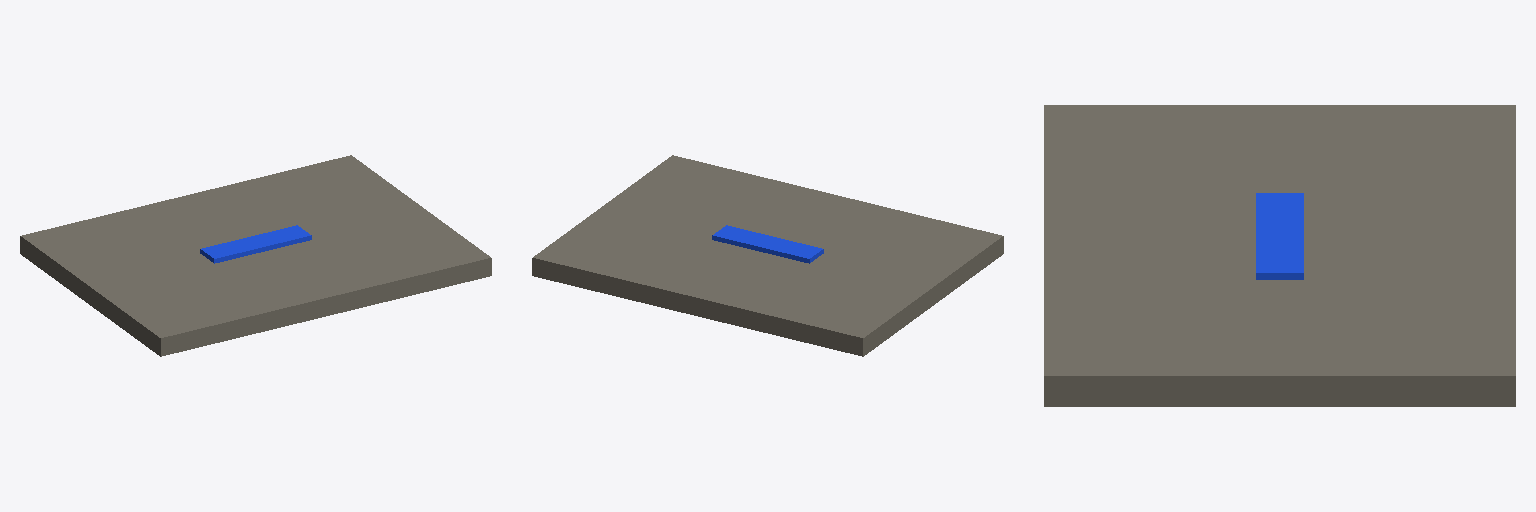
robot.urdf — parttoolgen_tabletop_proxy_v0:
<?xml version="1.0"?>
<robot name="parttoolgen_tabletop_proxy_v0">
  <link name="tabletop_proxy">
    <visual>
      <material name="wood">
        <color rgba="0.52 0.50 0.46 1.0"/>
      </material>
      <origin xyz="0 0 0"/>
      <geometry>
        <box size="0.75 0.55 0.04"/>
      </geometry>
    </visual>
    <collision>
      <origin xyz="0 0 0"/>
      <geometry>
        <box size="0.75 0.55 0.04"/>
      </geometry>
    </collision>

    <visual>
      <material name="target_patch">
        <color rgba="0.18 0.40 0.95 0.82"/>
      </material>
      <origin xyz="0.0 0.0 0.025"/>
      <geometry>
        <box size="0.22 0.055 0.01"/>
      </geometry>
    </visual>

    <inertial>
      <mass value="500"/>
      <friction value="1.0"/>
      <inertia ixx="1000.0" ixy="0.0" ixz="0.0" iyy="1000.0" iyz="0.0" izz="1000.0"/>
    </inertial>
  </link>
</robot>

--- Render facts (derived) ---
Views: 3 orthographic renders of the robot side by side, from view 1: azimuth 30°, elevation 25°; view 2: azimuth 150°, elevation 25°; view 3: azimuth 270°, elevation 25°.
Model parttoolgen_tabletop_proxy_v0 with 1 links and 0 joints (none), rooted at tabletop_proxy, posed all joints at 0.
Visible links, largest first — view 1: tabletop_proxy; view 2: tabletop_proxy; view 3: tabletop_proxy.
Boxes of the visible links, x1,y1,x2,y2 form: tabletop_proxy: (20, 155, 491, 356); tabletop_proxy: (532, 155, 1003, 356); tabletop_proxy: (1044, 105, 1515, 406).
Bounding box of the posed robot: 0.75 × 0.55 × 0.05 m (x, y, z).
Geometry: primitives only (box / cylinder / sphere), no mesh files.
